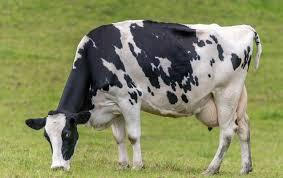cow: (25, 19, 262, 177)
